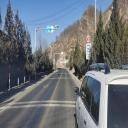speed_limit_60: (86, 34, 90, 43)
